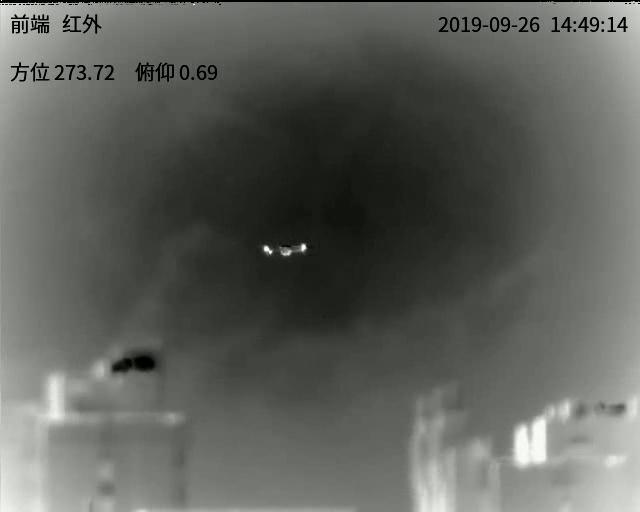DRONE: (260, 243, 308, 259)
